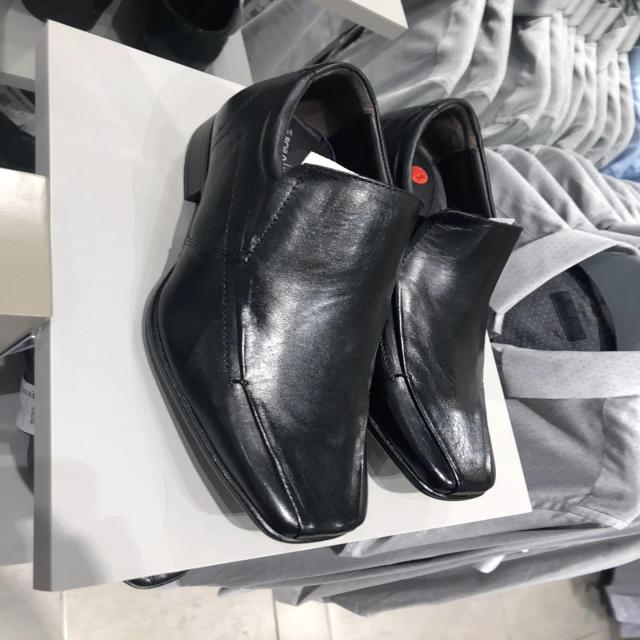shoe: (143, 65, 421, 545)
